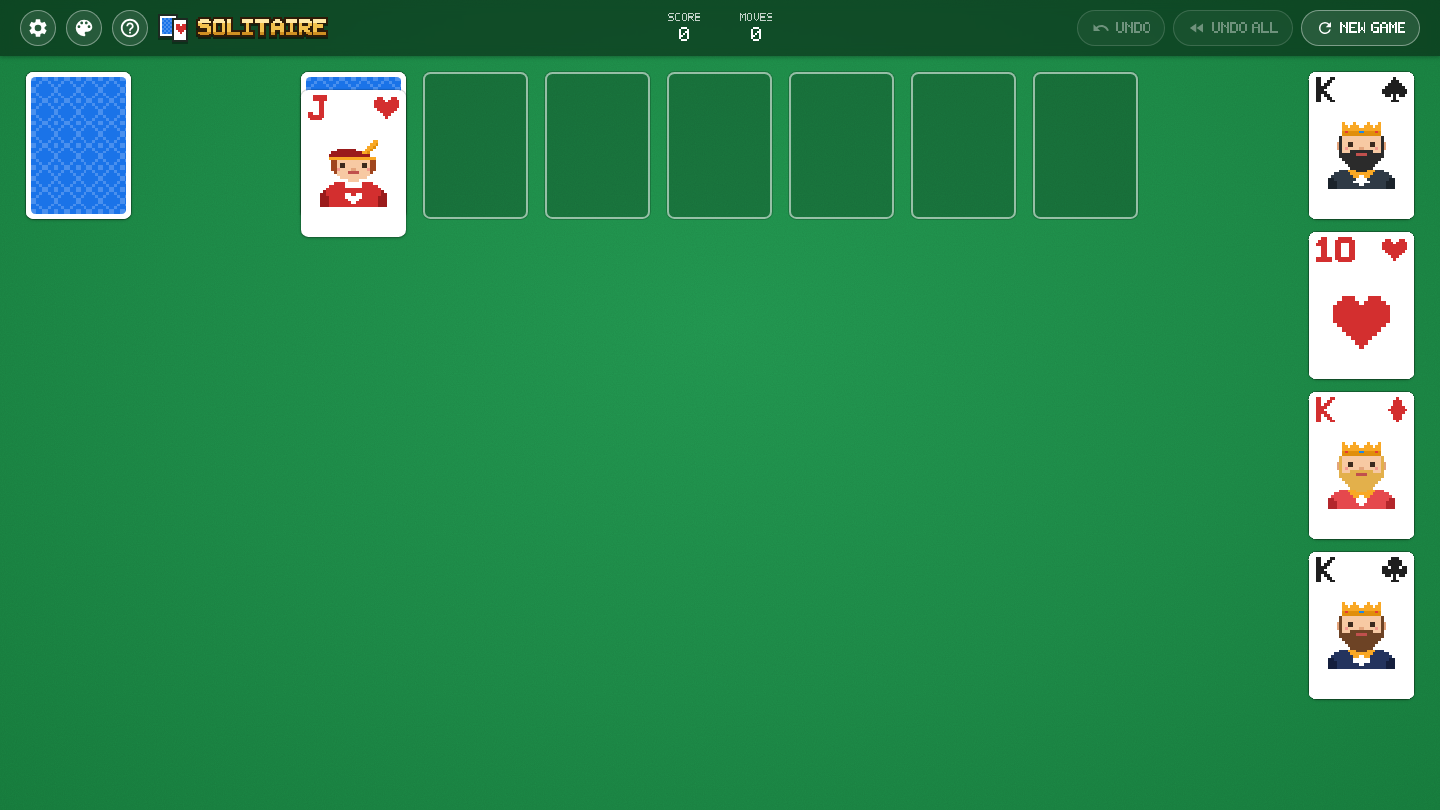
god mode › can be stopped from the settings panel too
Click the button named "Settings".
click(38, 28)  # box [20,10,56,46]
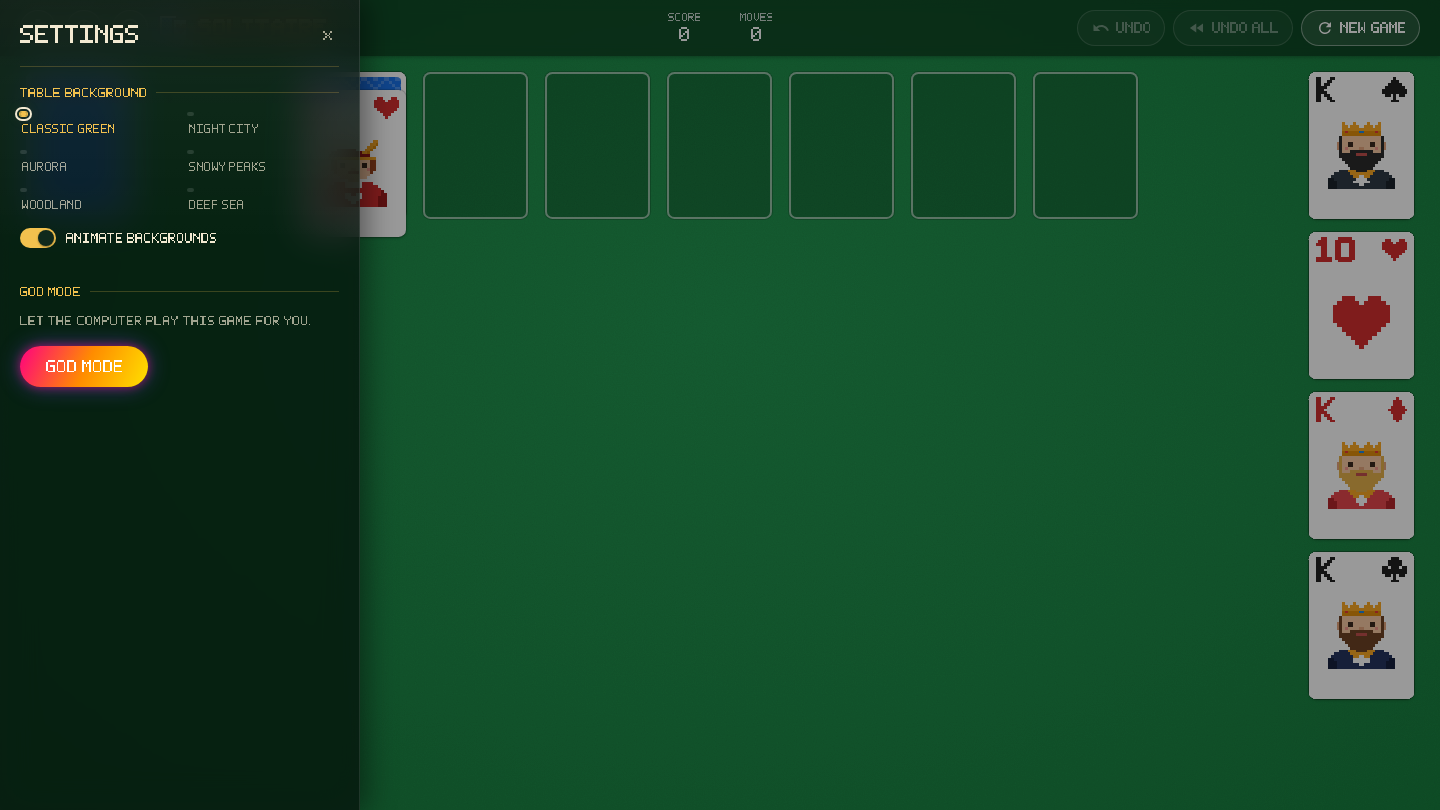
Click the button named "God mode".
click(84, 366)  # box [20,346,148,387]
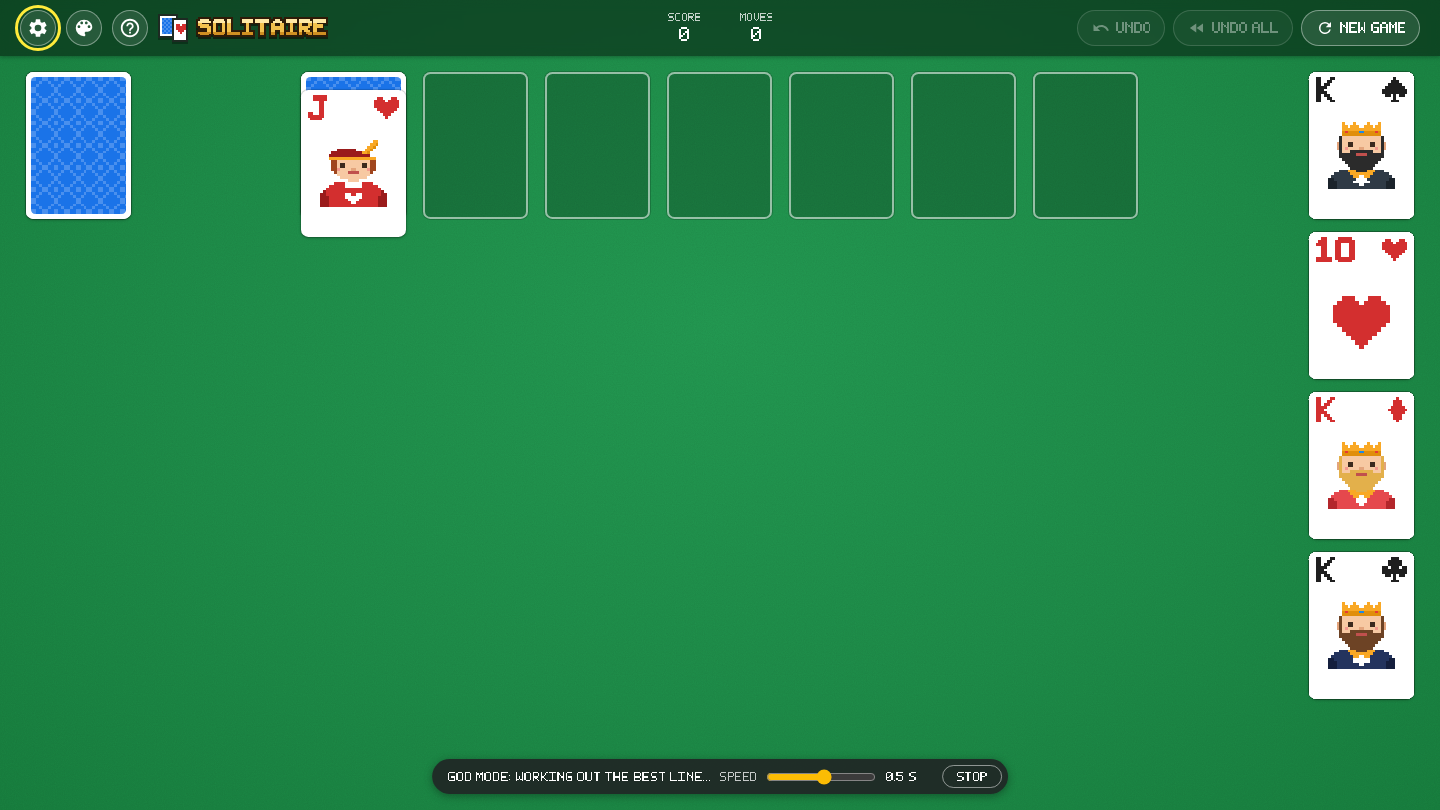
Expected: the dialog "Settings" is not shown
Click the button named "Settings".
click(38, 28)  # box [20,10,56,46]
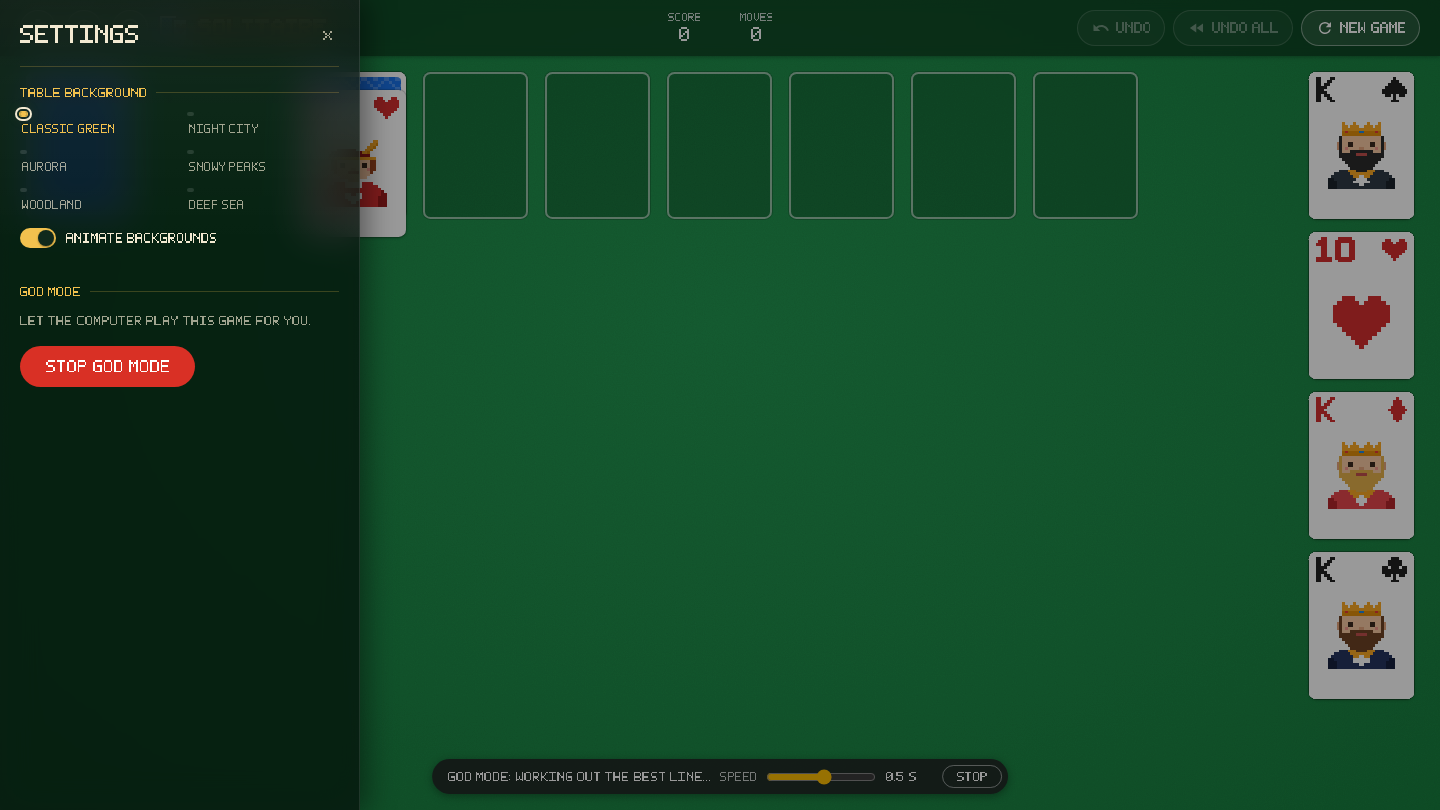
Click the button named "Stop god mode".
click(107, 366)  # box [20,346,195,387]
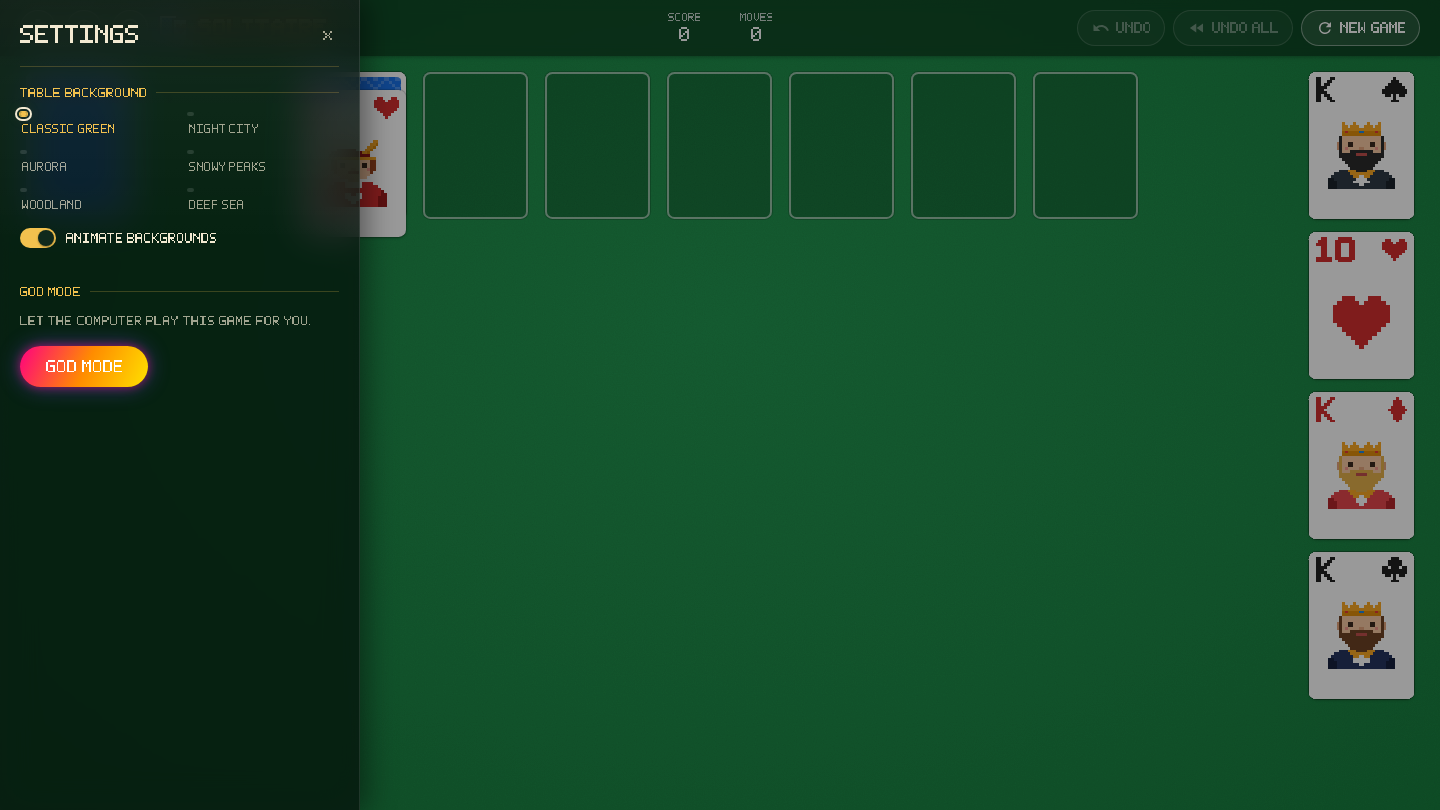
Expected: the message with test id "god-banner" is gone
